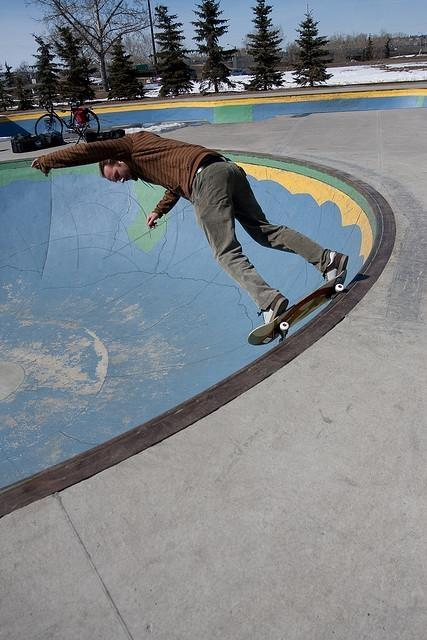bicycle: (34, 96, 102, 142)
